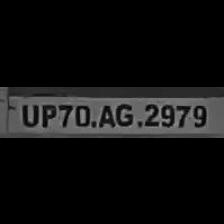0: (70, 101, 93, 126)
2: (138, 100, 160, 126)
7: (56, 101, 72, 126), (173, 101, 189, 126)
9: (189, 101, 209, 126), (158, 101, 176, 126)
A: (94, 101, 114, 126)
G: (113, 100, 134, 126)
P: (38, 100, 57, 127)
U: (17, 101, 39, 126)
